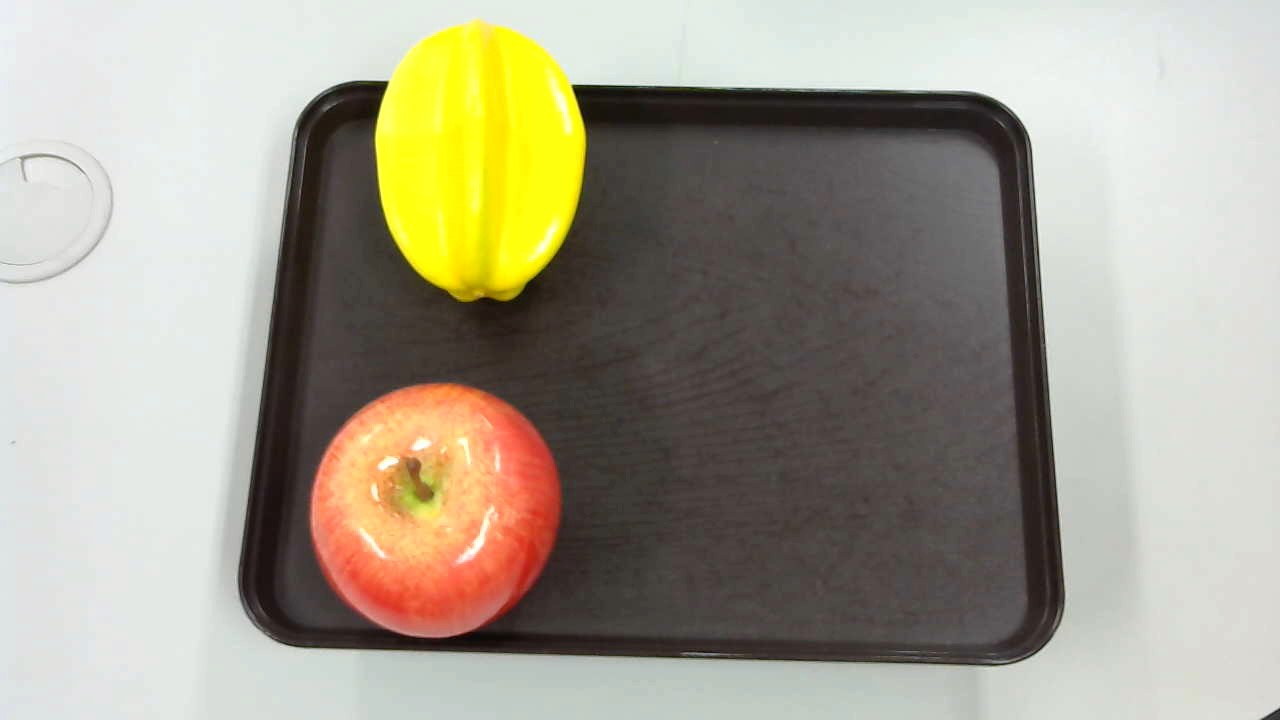red apple: (305, 383, 556, 637)
star fruit: (368, 19, 594, 303)
